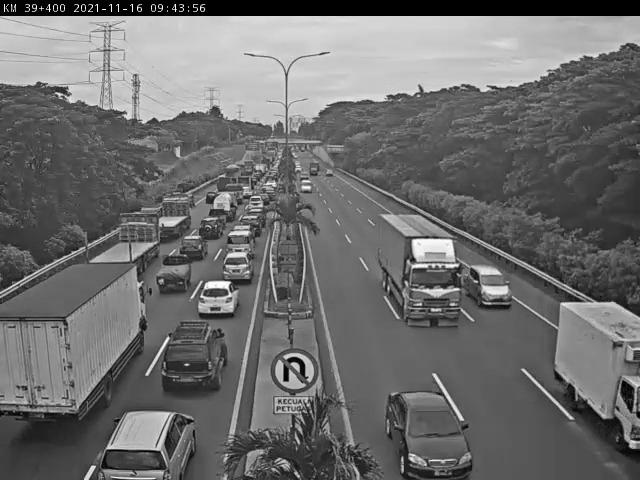car: (385, 387, 474, 479), (93, 411, 200, 480), (161, 321, 228, 395), (467, 265, 512, 308), (195, 282, 241, 322), (155, 255, 194, 295), (222, 253, 255, 287), (228, 230, 257, 260), (177, 239, 205, 264), (199, 218, 222, 241)
small truck: (554, 301, 640, 456)
truck-l-: (379, 217, 462, 329), (80, 213, 159, 280), (147, 198, 193, 243)
truck-m-: (0, 260, 155, 424)
